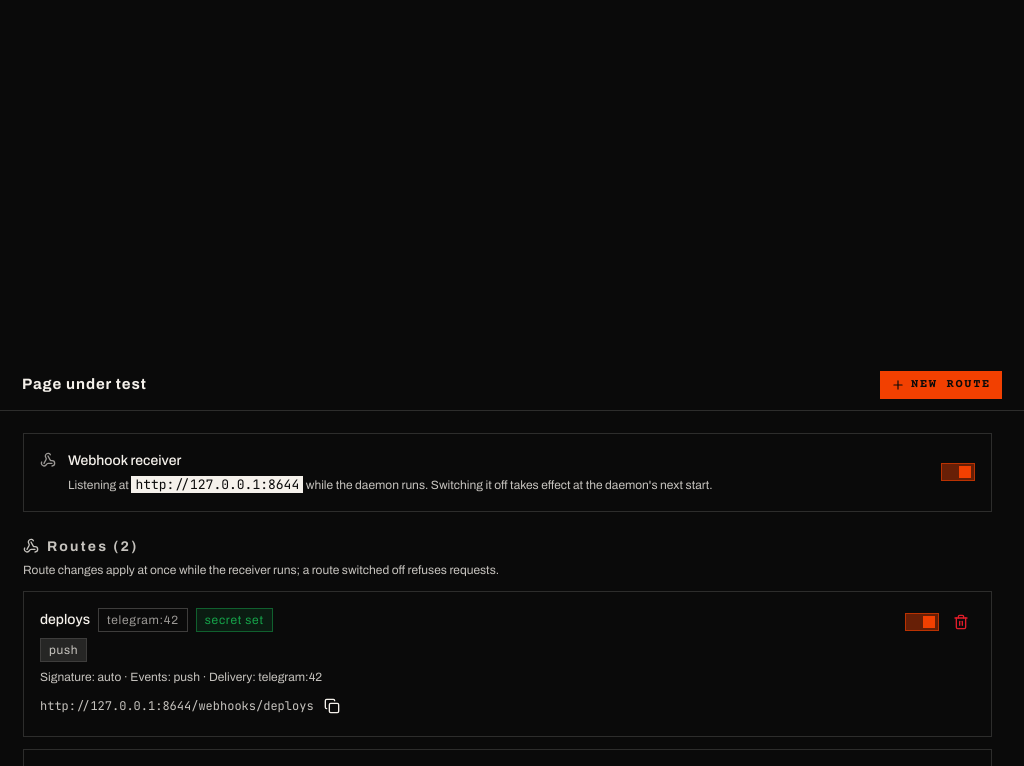
Test case: webhooks page › shows the server's refusal for a duplicate name
(page scrolled)
Check: the list item with test id "webhook-deploys" is shown, box [23,590,992,736]
Click the button "New route": (941, 384) [880,370,1002,398]
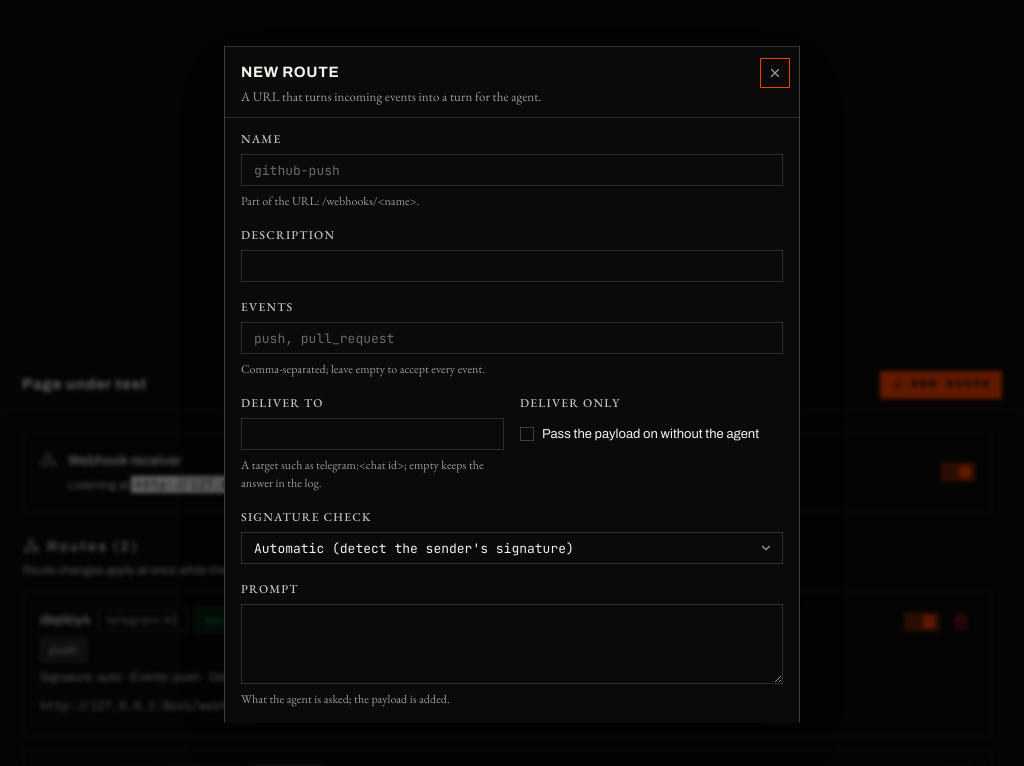
Check: the dialog "New route" is shown, box [224,46,800,722]
In the field labelled "Name": (512, 170) [241,154,783,186], type "deploys"
(page scrolled)
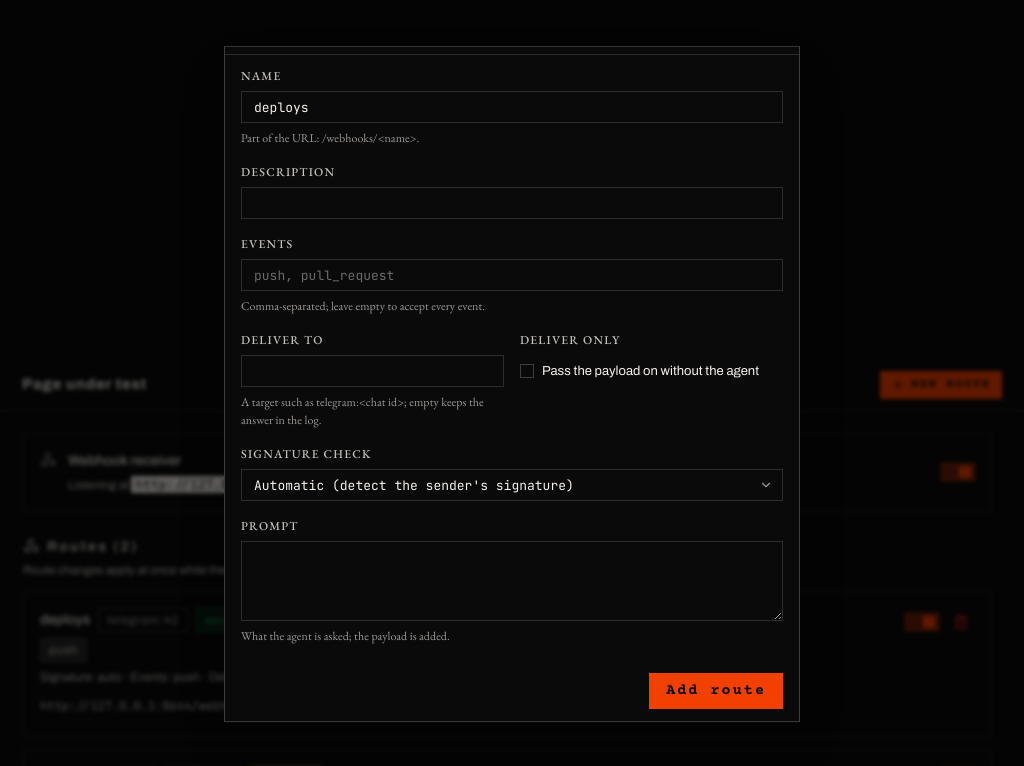
Click the button "Add route": (716, 692) [649,674,783,710]
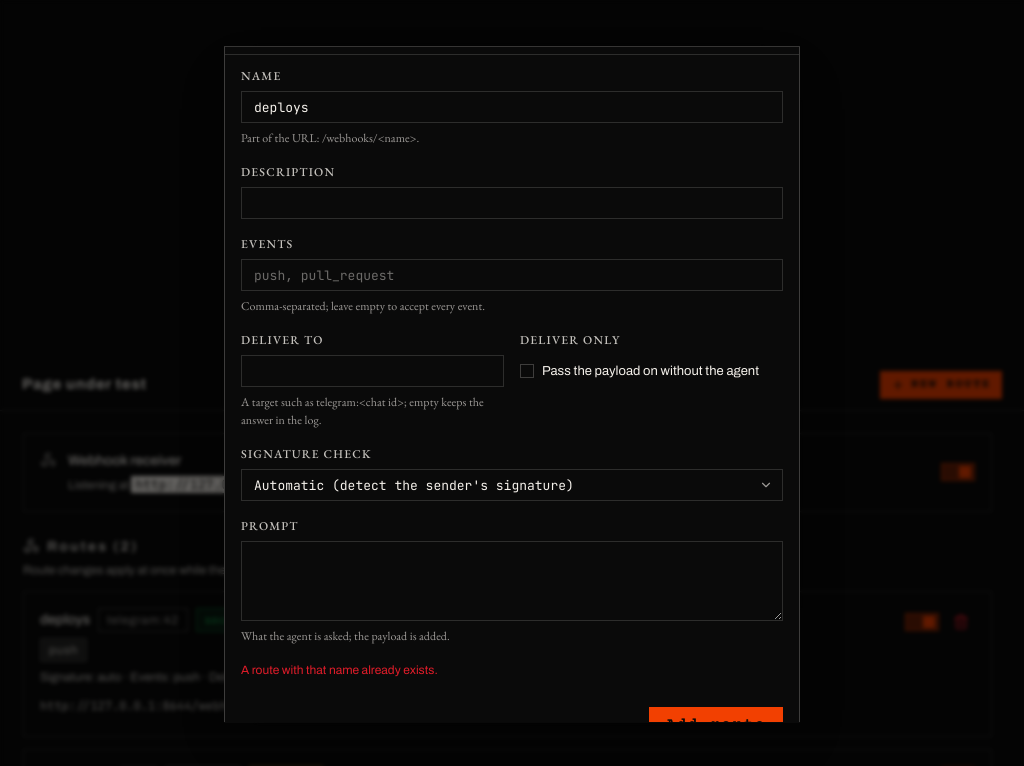
Check: the message shows "already exists", box [241,664,438,678]
